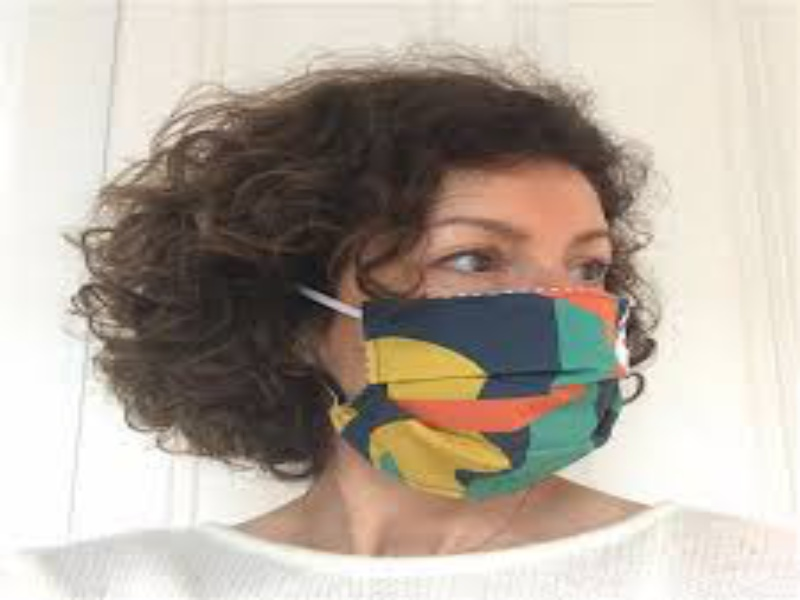ManaoArotava: (252, 93, 696, 523)
